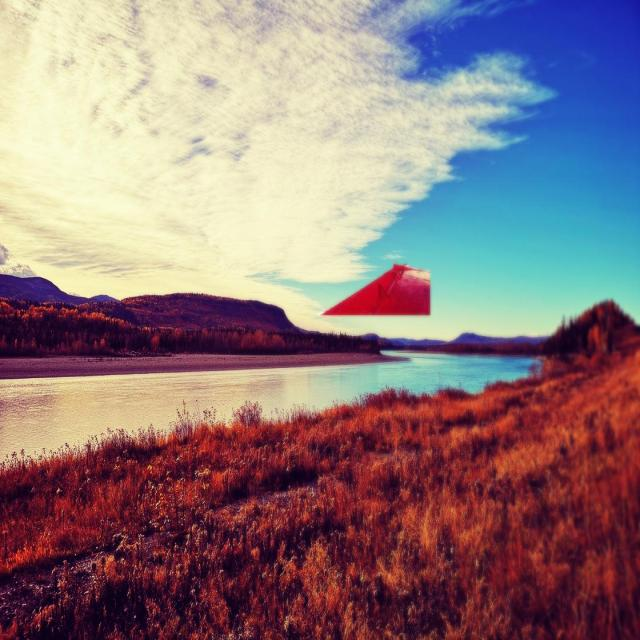airplane: (320, 262, 431, 316)
